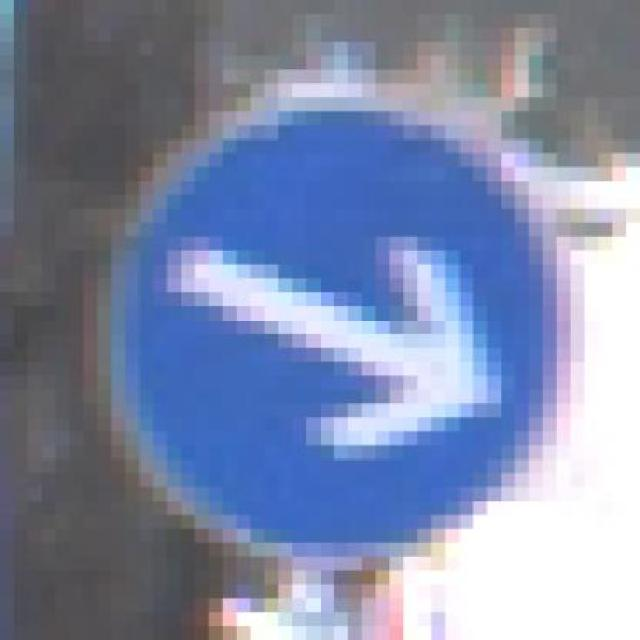Keep-Right: (69, 83, 585, 585)
